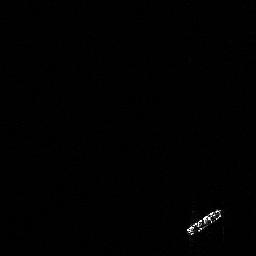ship: (186, 208, 223, 239)
